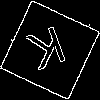K: (25, 25, 72, 80)
